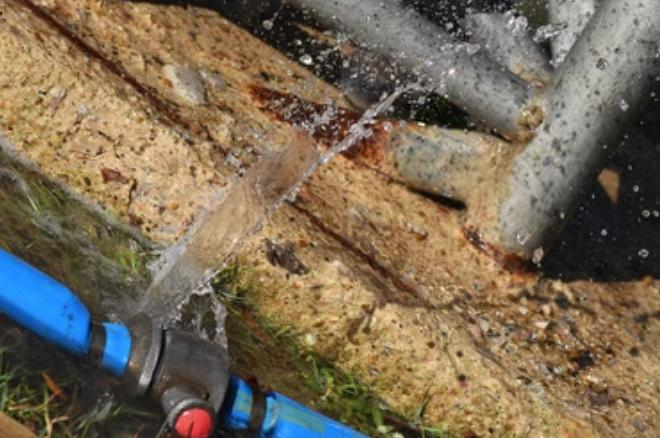pipe burst: (136, 72, 429, 331)
water accumulation: (0, 140, 433, 438)
